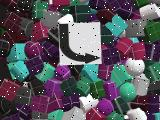Left: (58, 22, 102, 66)
